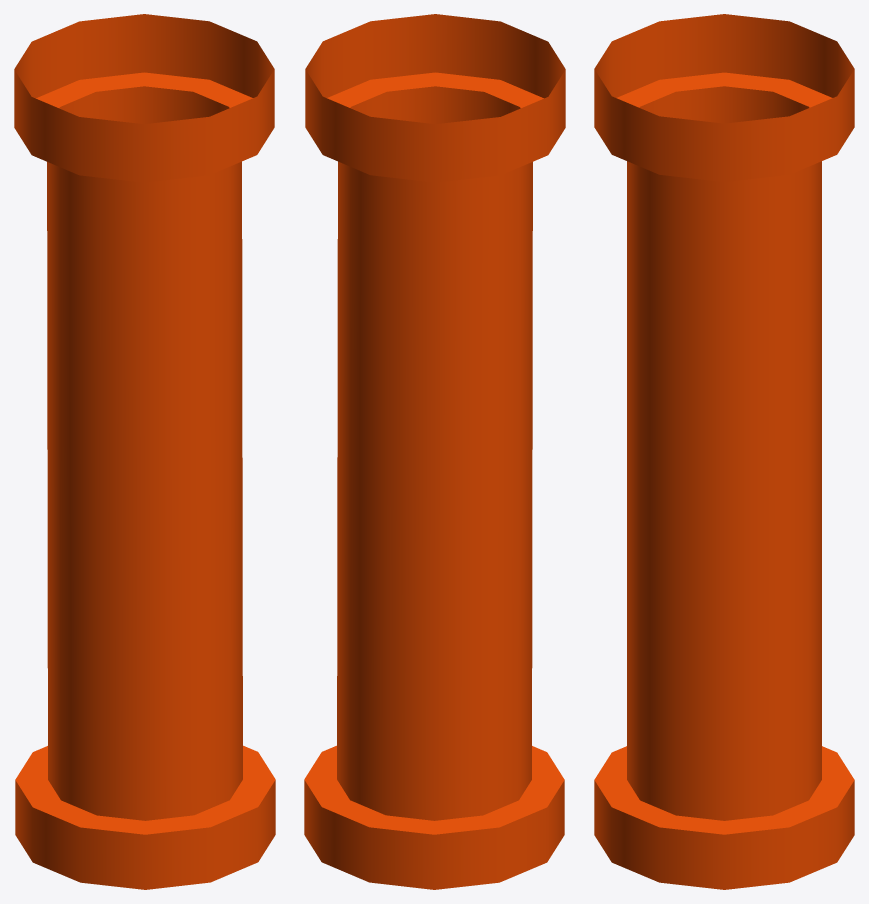
The model's file is Pipes.fbx.
3 renders of one model, left to right at view 1: azimuth 30°, elevation 25°; view 2: azimuth 150°, elevation 25°; view 3: azimuth 270°, elevation 25°, orthographic.
Parts seen in each view (by area): view 1: Pipe; view 2: Pipe; view 3: Pipe.
Boxes of the visible parts, x1,y1,x2,y2 form: Pipe: [14, 14, 275, 889]; Pipe: [304, 14, 565, 889]; Pipe: [594, 14, 854, 889].
Size of the model in its own units: 0.5429 by 1.75 by 0.5401.
